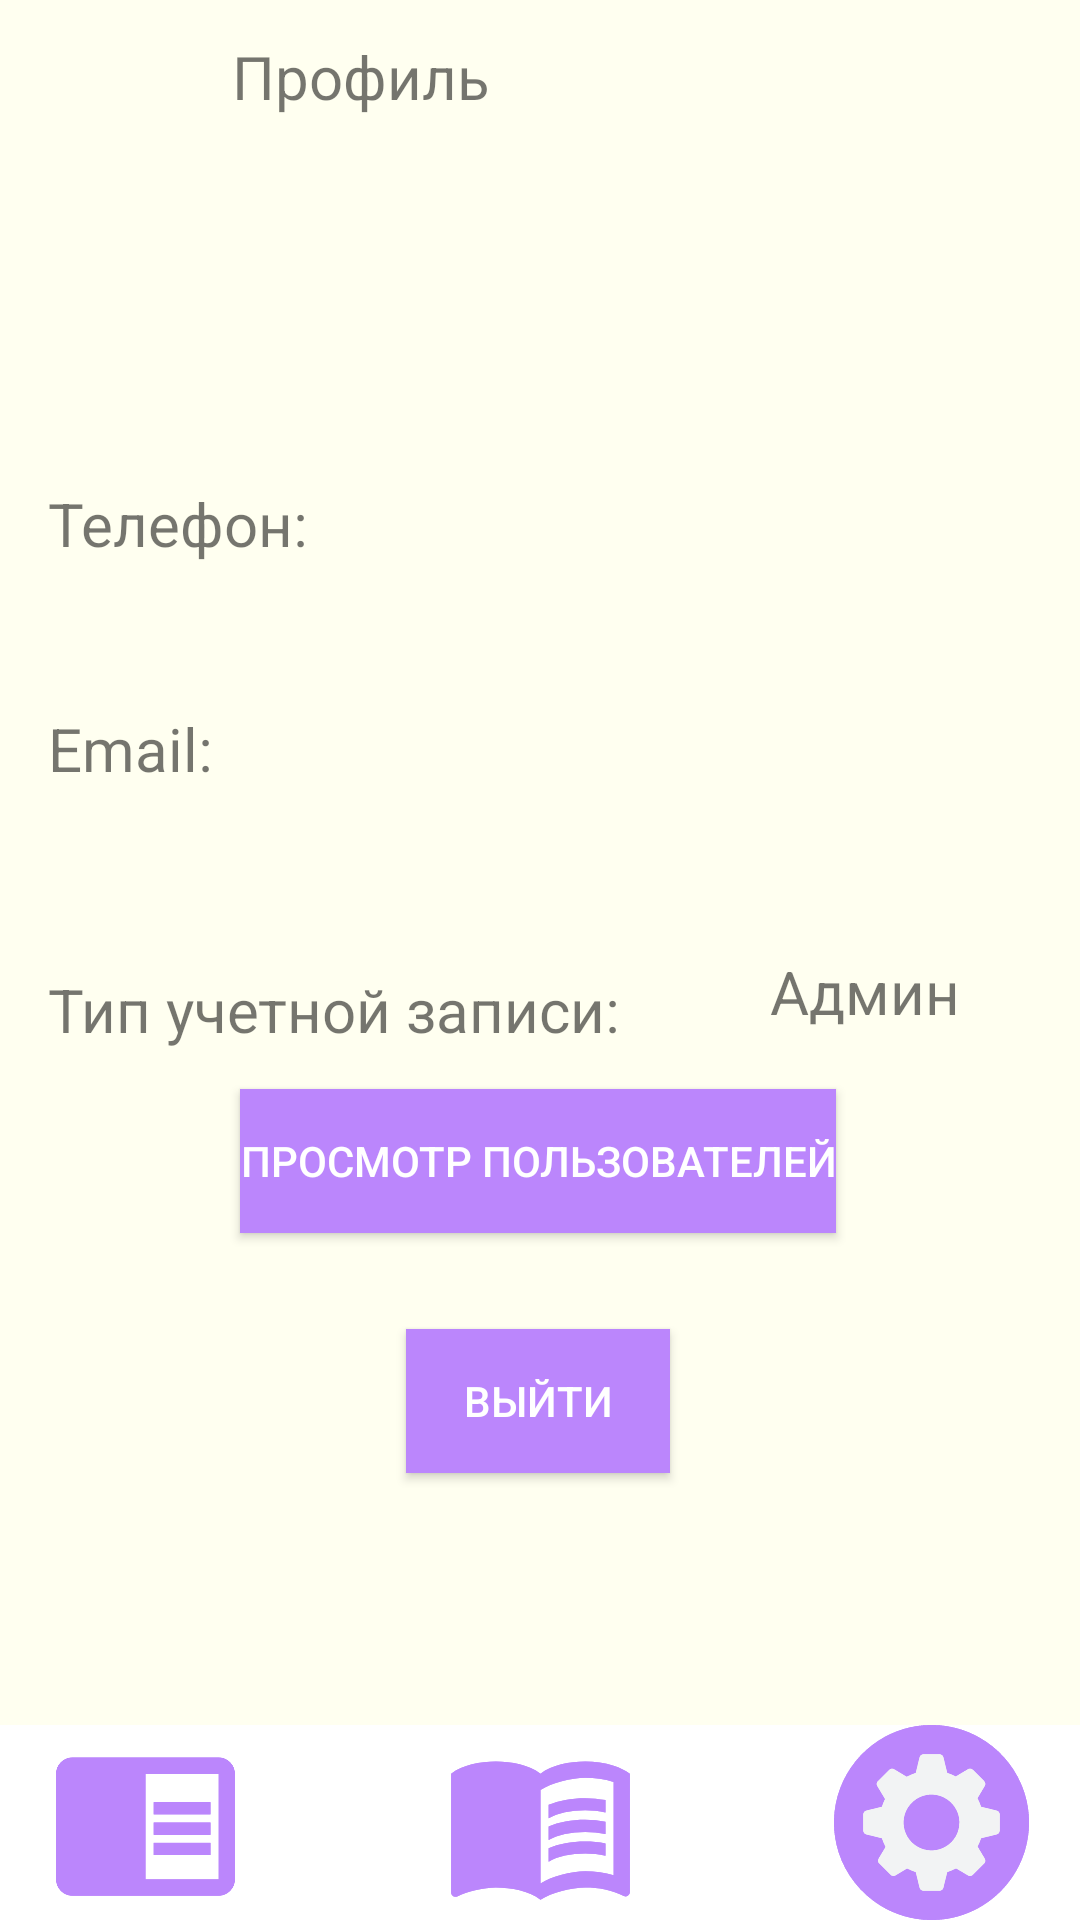

Point at icon controls on the screen. Image size 1080*1920, points as (x,y).
Books: (540,1830)
Settings: (931,1822)
